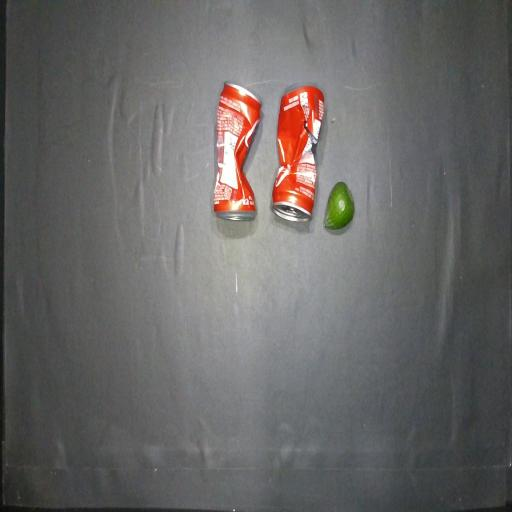higo: (324, 182, 354, 229)
lata_defectuoso: (271, 85, 324, 221), (213, 82, 261, 219)
